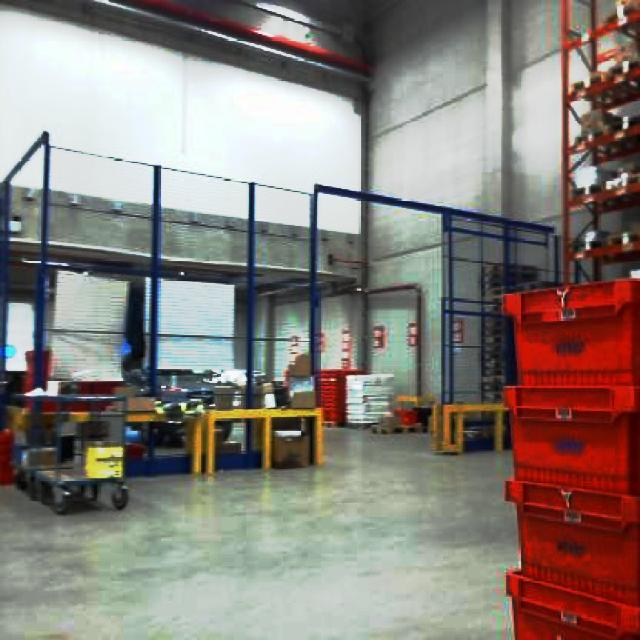ground: (0, 423, 522, 638)
pallet: (558, 0, 638, 638), (498, 275, 638, 638), (558, 0, 638, 285), (5, 391, 129, 514), (183, 405, 325, 474), (428, 400, 508, 454)
